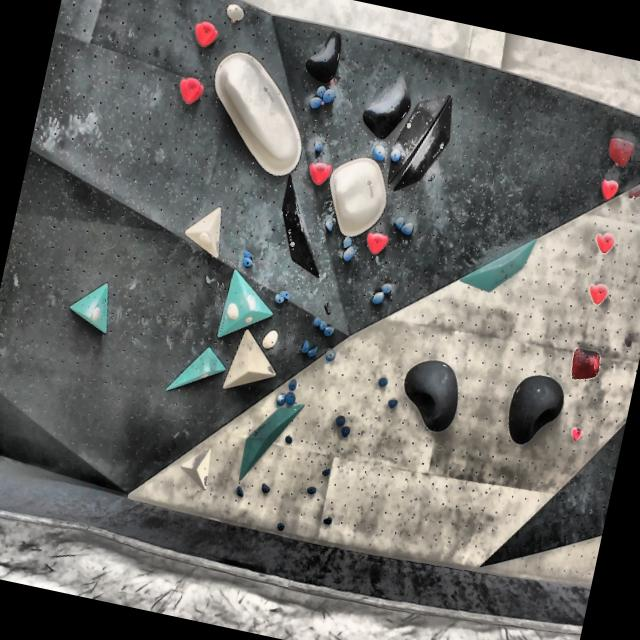Hold: (198, 48, 318, 180), (321, 150, 394, 242), (498, 371, 570, 454), (396, 354, 464, 436), (357, 68, 418, 144), (300, 30, 346, 86), (566, 342, 604, 385), (188, 18, 222, 52), (174, 72, 207, 106), (604, 135, 634, 169), (304, 158, 333, 188), (586, 280, 610, 308), (593, 230, 617, 256), (598, 176, 620, 204), (192, 228, 218, 250), (260, 325, 279, 350), (222, 2, 245, 22), (368, 141, 387, 164), (224, 300, 242, 319), (306, 94, 324, 112), (244, 290, 258, 312), (367, 290, 384, 308), (321, 216, 336, 236), (568, 425, 584, 443), (332, 410, 348, 428), (321, 88, 336, 106), (90, 305, 104, 324), (380, 280, 396, 296), (283, 390, 299, 406), (622, 334, 636, 352), (402, 220, 416, 238), (340, 246, 354, 264), (389, 146, 403, 163), (339, 233, 353, 250), (239, 256, 256, 270), (298, 336, 310, 354), (269, 292, 284, 306), (322, 348, 337, 362), (627, 186, 640, 202), (277, 287, 293, 300), (322, 324, 336, 338), (274, 391, 287, 406), (276, 518, 288, 534), (287, 376, 298, 393), (392, 217, 405, 231), (339, 424, 350, 440), (386, 396, 399, 409), (312, 83, 324, 97), (306, 482, 318, 496), (322, 512, 334, 526), (317, 317, 327, 333), (306, 345, 318, 358), (312, 140, 324, 152), (321, 468, 334, 479), (242, 248, 256, 258), (312, 314, 322, 328), (258, 482, 270, 493), (233, 486, 244, 498), (284, 432, 293, 446), (376, 374, 386, 386), (200, 369, 208, 380), (244, 314, 252, 324)
